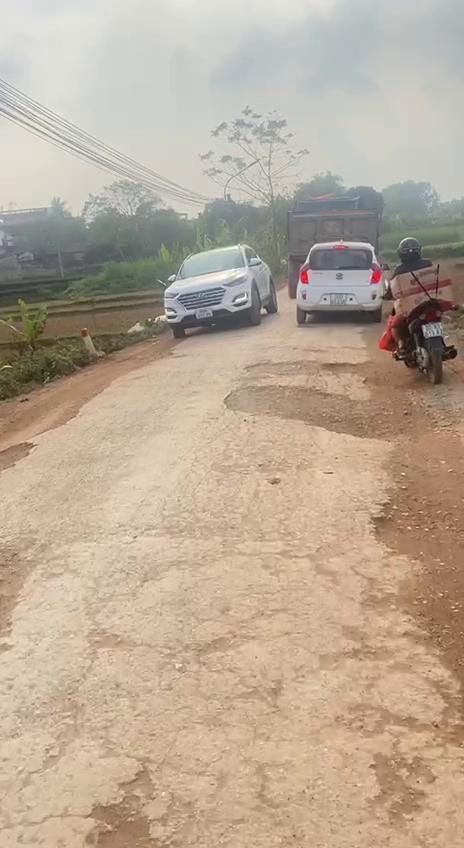pothole: (221, 356, 396, 446), (361, 478, 464, 566), (358, 739, 444, 835), (86, 766, 185, 848), (0, 536, 46, 640), (0, 438, 39, 475)
